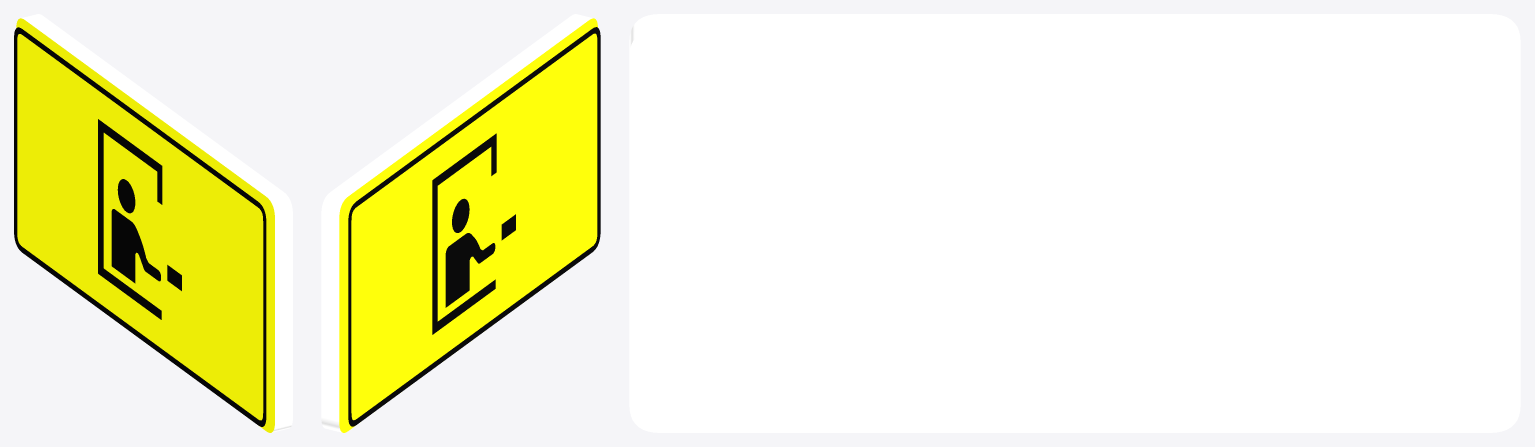
File: Manual_Toll_Lane.glb
The picture shows the model from 3 angles, left to right: view 1: azimuth 30°, elevation 25°; view 2: azimuth 150°, elevation 25°; view 3: azimuth 270°, elevation 25°; orthographic projection. The views are drawn at different scales.
Parts seen in each view (by area): view 1: Manual_Toll_Lane; view 2: Manual_Toll_Lane; view 3: Manual_Toll_Lane.
Boxes of the visible parts, left/top/right/bottom form: Manual_Toll_Lane: left=14, top=14, right=292, bottom=432; Manual_Toll_Lane: left=321, top=14, right=600, bottom=432; Manual_Toll_Lane: left=629, top=14, right=1520, bottom=432.
Bounding box in the file's own units: 0.0262 × 0.25 × 0.5.
